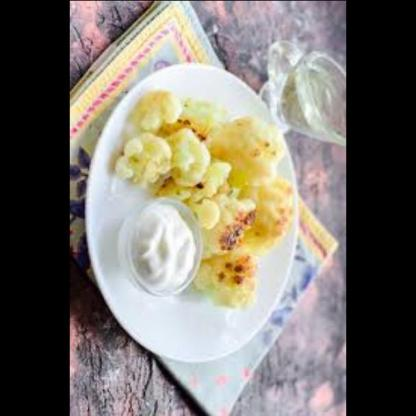cayliflower: (115, 91, 290, 206), (199, 166, 303, 312)
